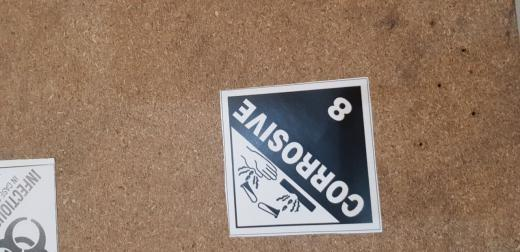corrosive: (220, 78, 376, 237)
infectious-substance: (1, 156, 61, 252)
